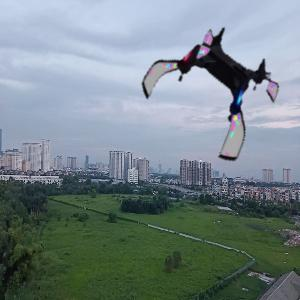drone: (142, 20, 279, 157)
